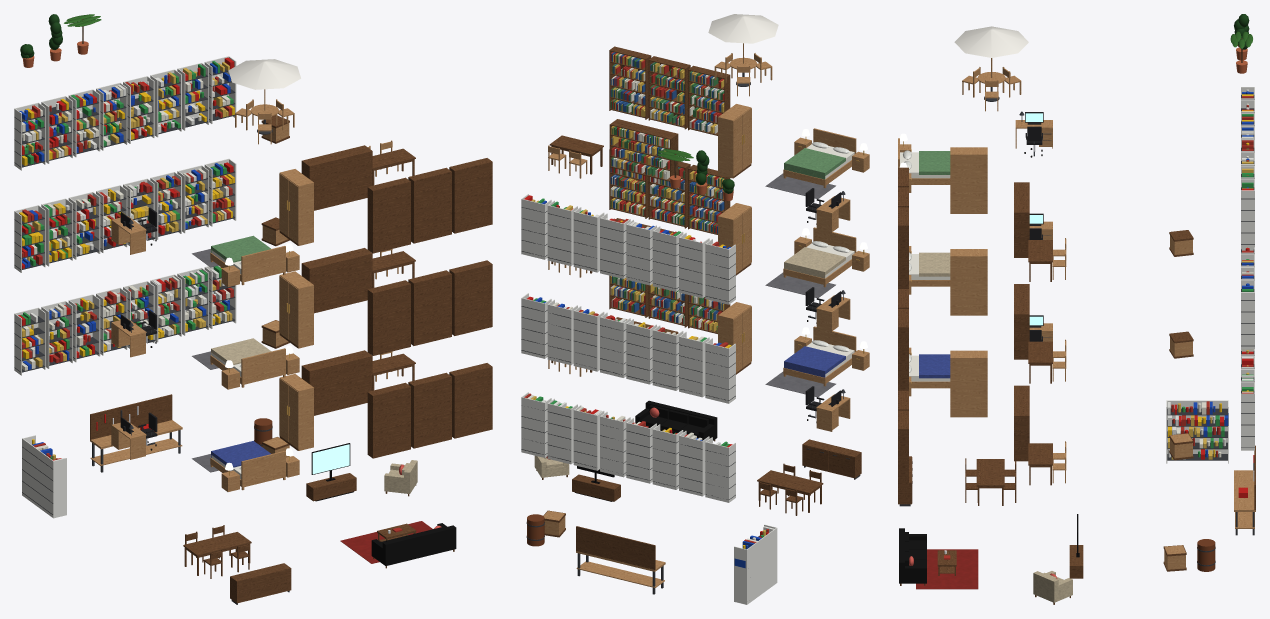
File: i_castle_keep.gltf
3 renders of one model, left to right at view 1: azimuth 30°, elevation 25°; view 2: azimuth 150°, elevation 25°; view 3: azimuth 270°, elevation 25°, orthographic. The views are drawn at different scales.
Visible parts, largest first — view 1: I_castle_keep; view 2: I_castle_keep; view 3: I_castle_keep.
Boxes of the visible parts, x1=… form: I_castle_keep: x1=14, y1=14, x2=492, y2=604; I_castle_keep: x1=521, y1=14, x2=869, y2=604; I_castle_keep: x1=898, y1=14, x2=1255, y2=604.
Size of the model in its own units: 11.31 by 17.25 by 11.49.
Materials: 37 (11 with a texture image).
